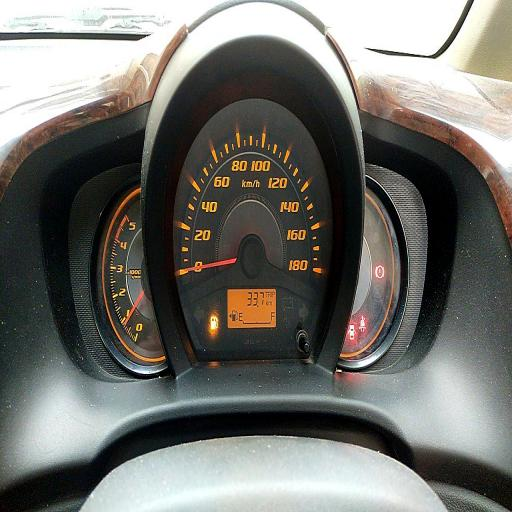belt: (359, 315, 366, 333)
brake_system_fault: (375, 265, 385, 279)
tachometer: (102, 187, 166, 363)
